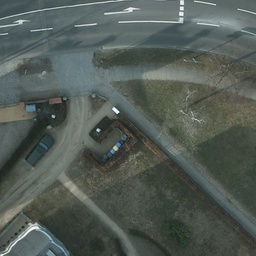car: (26, 136, 53, 165)
